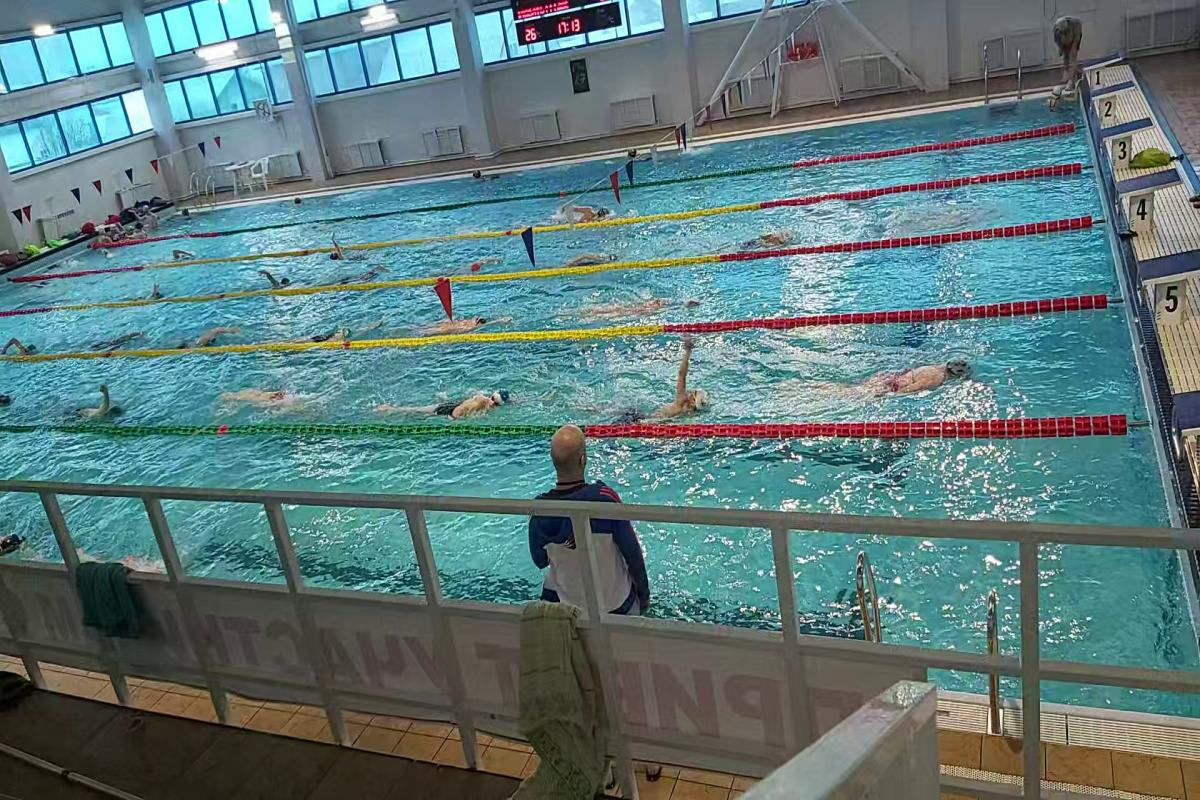swimmer: (622, 371, 745, 428), (817, 359, 983, 400), (402, 390, 540, 424), (564, 289, 705, 312), (232, 378, 324, 406), (63, 385, 126, 422), (78, 334, 163, 356), (417, 316, 497, 337), (10, 333, 61, 360), (562, 246, 626, 267), (318, 246, 370, 267), (560, 201, 620, 219), (190, 330, 238, 351), (737, 234, 814, 247), (329, 325, 367, 346), (256, 271, 296, 290)
